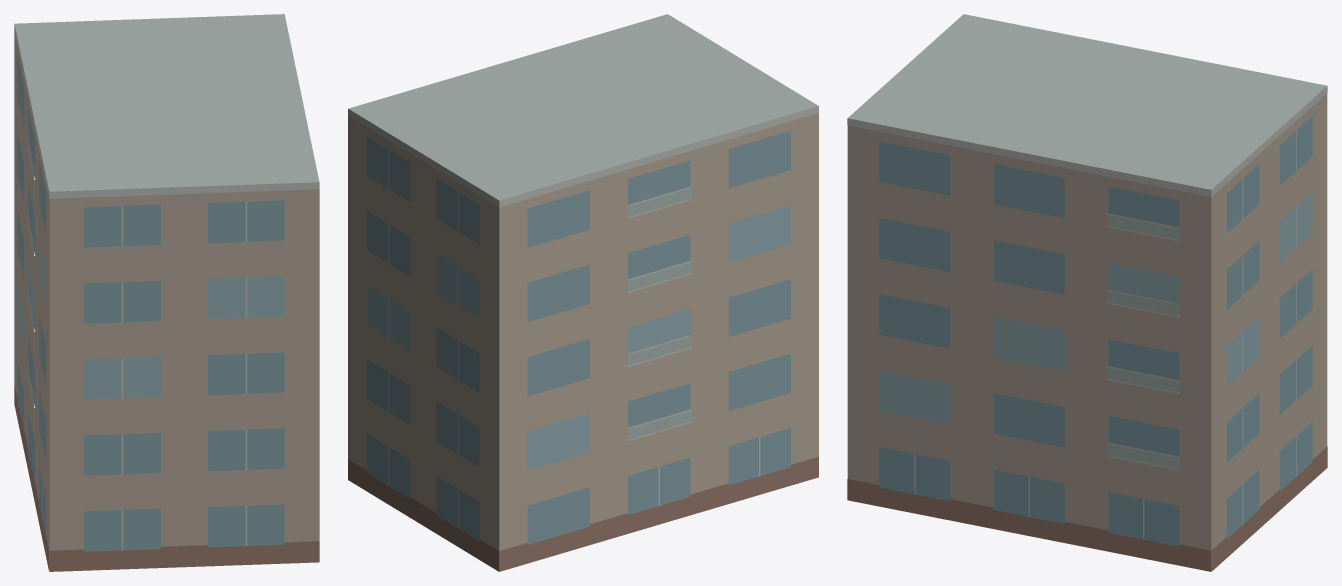
The model's file is survey-upis-32632950.glb.
The picture shows the model from 3 angles, left to right: view 1: azimuth 30°, elevation 25°; view 2: azimuth 150°, elevation 25°; view 3: azimuth 270°, elevation 25°; orthographic projection. The views are drawn at different scales.
Parts seen in each view (by area): view 1: survey-upis-32632950.tmp; view 2: survey-upis-32632950.tmp; view 3: survey-upis-32632950.tmp.
Boxes of the visible parts, x1,y1,x2,y2 form: survey-upis-32632950.tmp: (14, 14, 319, 571); survey-upis-32632950.tmp: (348, 14, 818, 571); survey-upis-32632950.tmp: (847, 14, 1327, 571).
Bounding box in the file's own units: 12.84 × 13 × 14.81.
